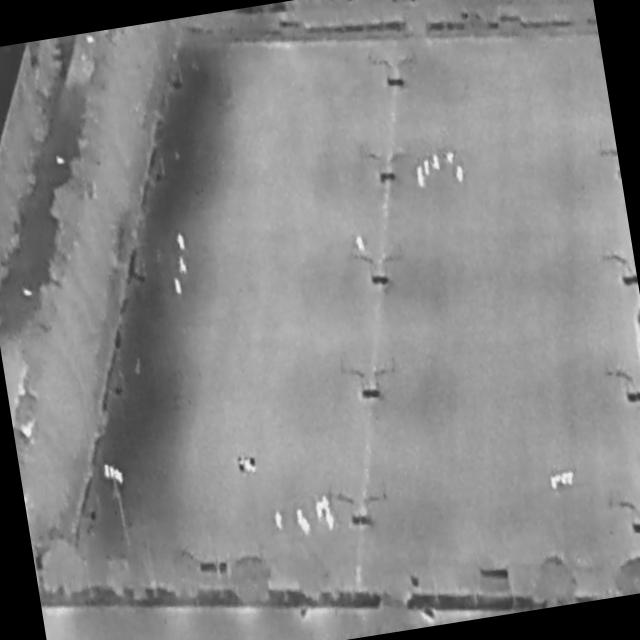person: (326, 509, 337, 531), (177, 232, 188, 252), (418, 167, 428, 189), (456, 166, 467, 185), (302, 517, 313, 536), (275, 511, 285, 531), (316, 502, 326, 522), (423, 160, 433, 178), (323, 496, 333, 514), (356, 237, 367, 253), (175, 278, 184, 296), (433, 155, 442, 172), (296, 509, 305, 526), (179, 258, 188, 274), (448, 152, 457, 167)
